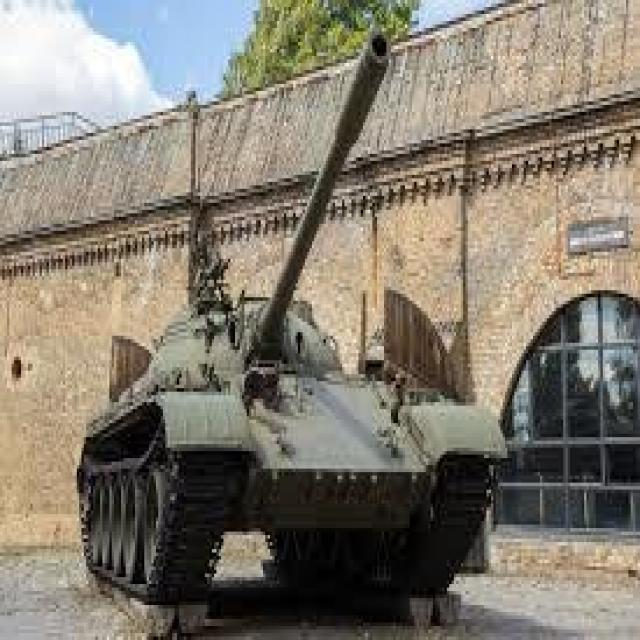MIL_MBT: (72, 238, 507, 609)
